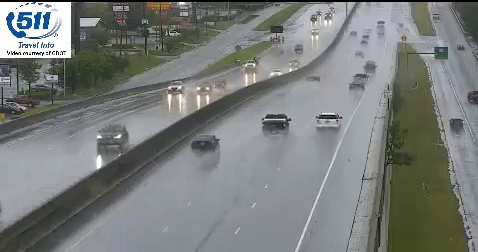car: (262, 114, 289, 134), (191, 134, 218, 152), (316, 112, 340, 131)
